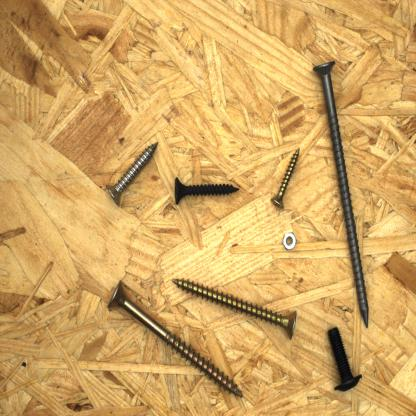screw: (105, 275, 247, 401), (311, 58, 372, 332), (170, 275, 300, 343), (102, 139, 160, 211), (326, 326, 364, 394), (172, 176, 241, 207), (270, 146, 302, 210)
